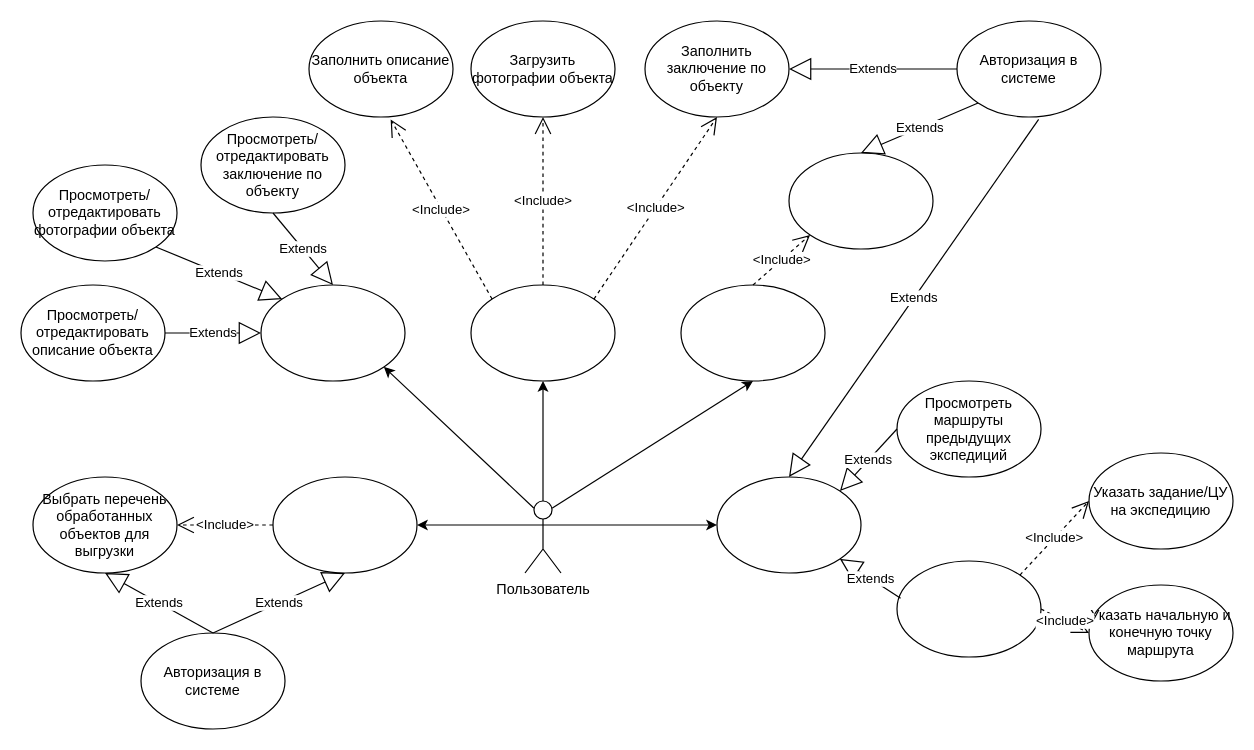
The diagram is 1254 pixels wide and 750 high, and some of its shapes have lost their labels. The centre of each missing label's shape, as x and y in pixels:
"Выбрать необходимый отчет из списка доступных" belongs at [860,200].
"Выгрузить данные экспедиции на сервер" belongs at [344,524].
"Заполнить данные по научной экспедиции" belongs at [542,332].
"Открыть карту маршрута" belongs at [788,524].
"Построить маршрут экспедиции" belongs at [968,608].
"Просмотр и редактирование сохраненных данных по экспедициям" belongs at [332,332].
"Просмотреть отчеты" belongs at [752,332].
